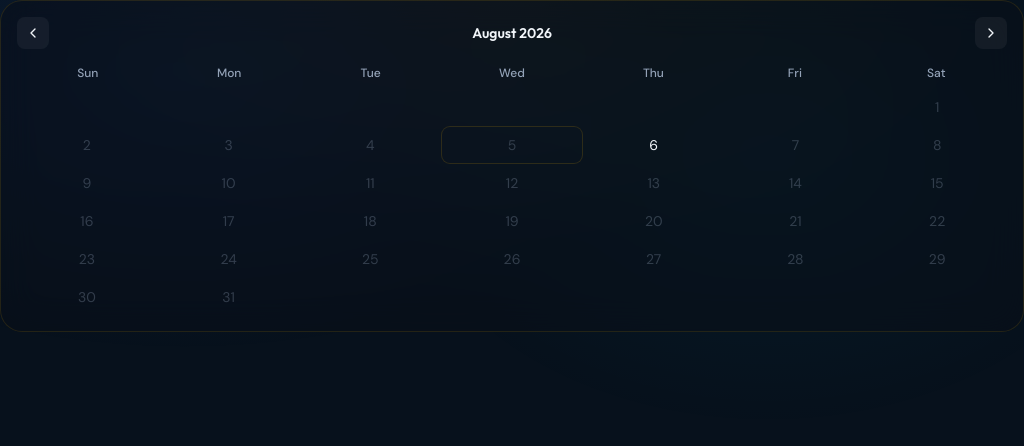
Test case: CalendarCard › shows time selection options after a date with slots is selected
The width and height of the screenshot is (1024, 446).
Click the button "6" at {"x": 654, "y": 145}, box [584,127,724,163]
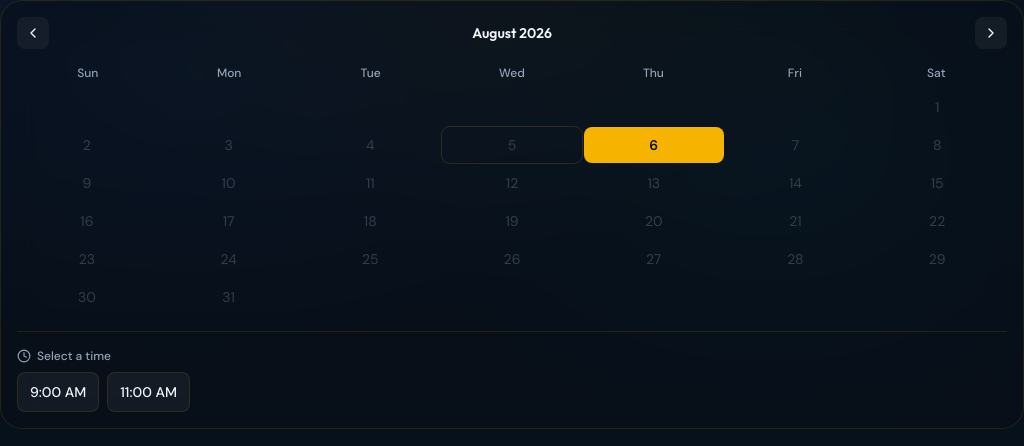
Expected: the button "9:00 AM" is shown, [17,372,99,412]
